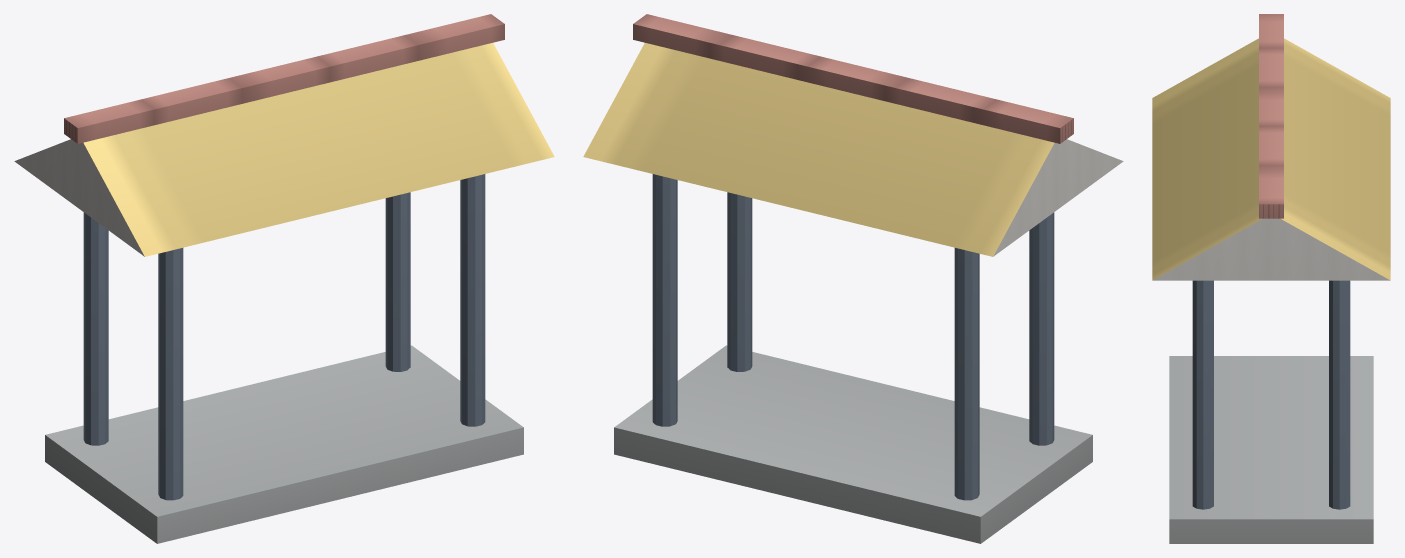
Rendered from market_awning.glb.
3 renders of one model, left to right at view 1: azimuth 30°, elevation 25°; view 2: azimuth 150°, elevation 25°; view 3: azimuth 270°, elevation 25°, orthographic. The views are drawn at different scales.
Parts seen in each view (by area): view 1: market_awning; view 2: market_awning; view 3: market_awning.
Part boxes in pixels (x1=…): market_awning: x1=14, y1=14, x2=554, y2=543; market_awning: x1=583, y1=14, x2=1123, y2=543; market_awning: x1=1152, y1=14, x2=1390, y2=543.
Bounding box in the file's own units: 3.96 × 3.43 × 2.1.
Materials: 1 (1 with a texture image).
